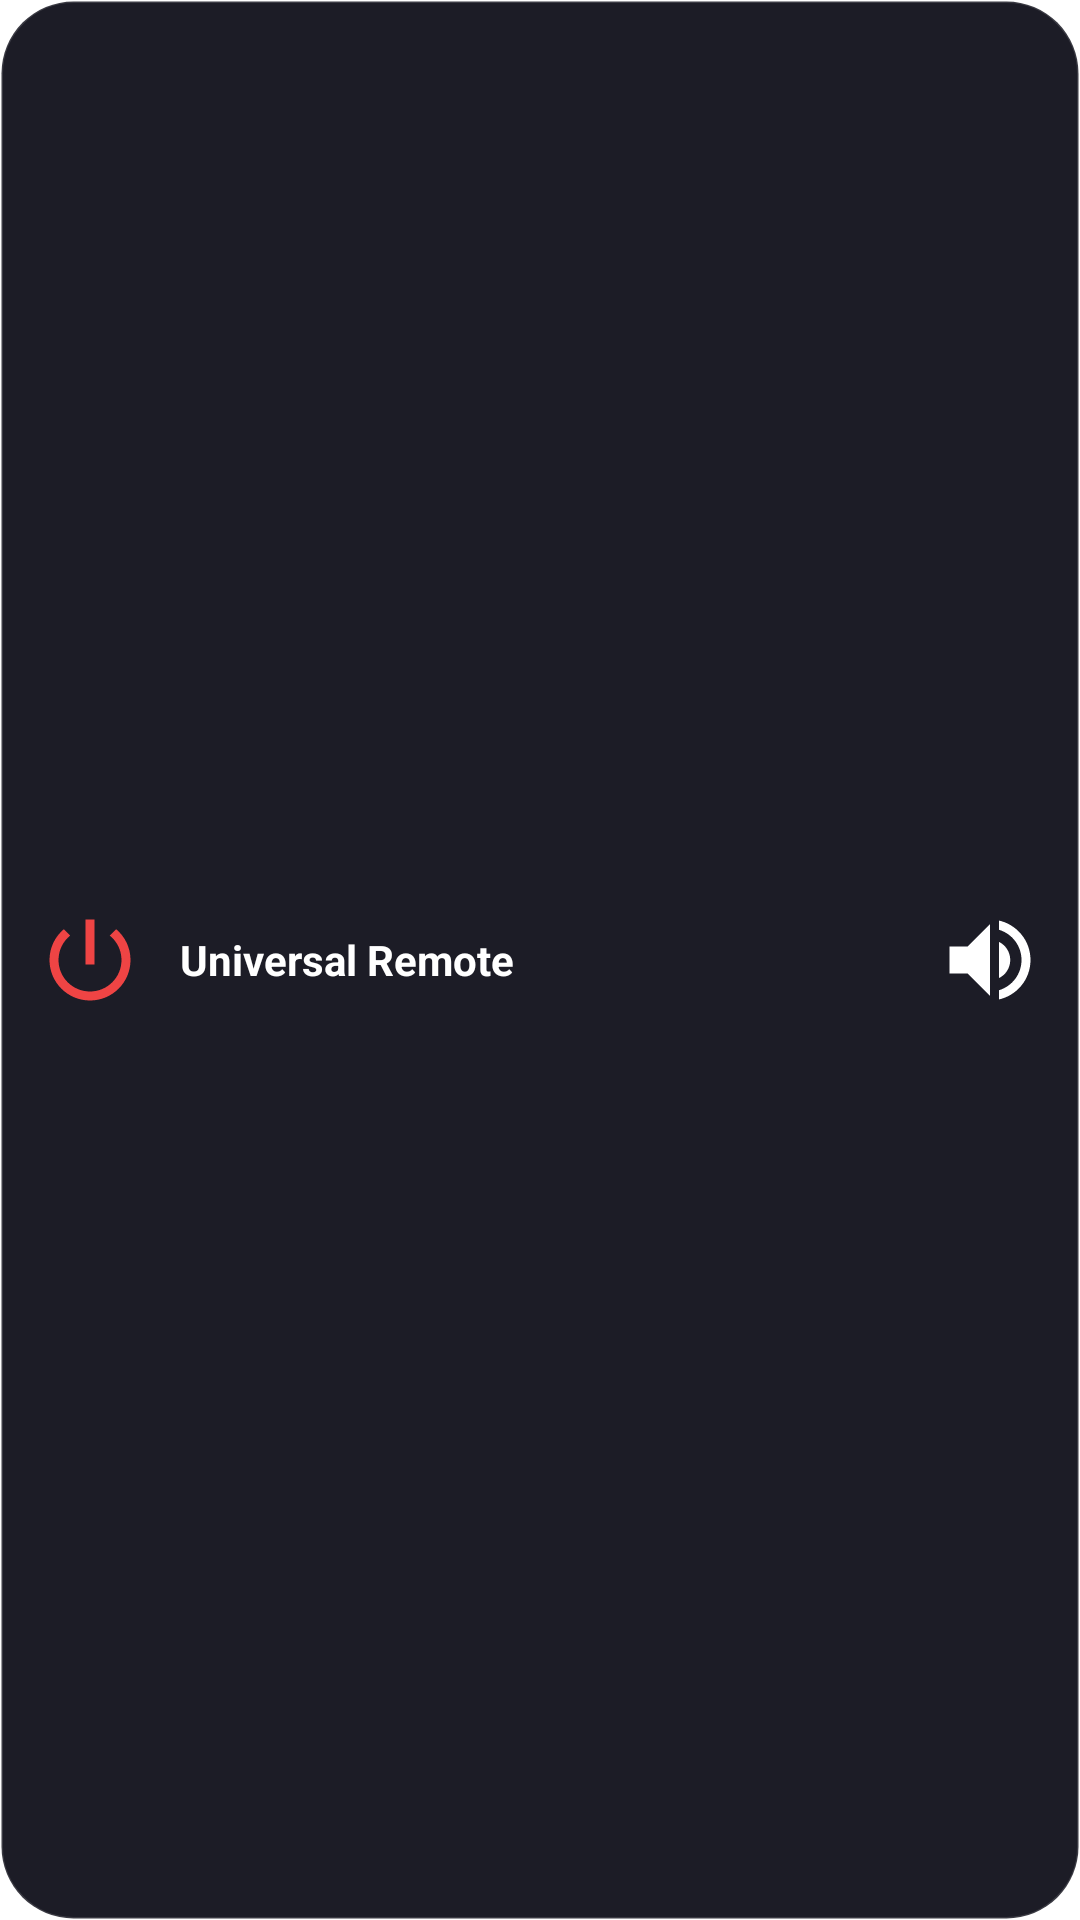

Point at icon controls on the screen. Image size 1080×1920, points as [x,y].
power: [90,960]
volume up: [990,960]
